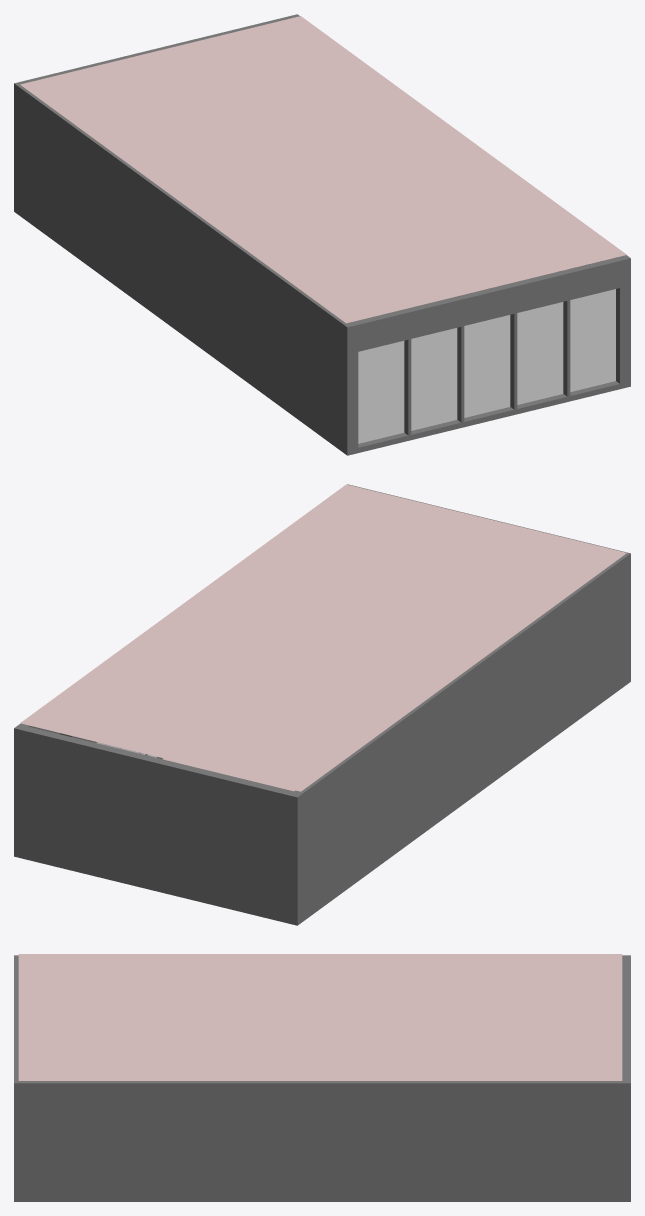
File: StudioRevamp.fbx
3 renders of one model, top to bottom at view 1: azimuth 30°, elevation 25°; view 2: azimuth 150°, elevation 25°; view 3: azimuth 270°, elevation 25°, orthographic. The views are drawn at different scales.
Parts seen in each view (by area): view 1: Ceiling, Walls, Windows, Walls3, Walls1; view 2: Ceiling, Walls, Walls1, Walls3; view 3: Ceiling, Walls2, Walls1, Walls3.
Boxes of the visible parts, box(x1,y1,x2,y2) form: Ceiling: box(20, 16, 626, 323); Walls: box(19, 86, 345, 451); Windows: box(358, 289, 615, 443); Walls3: box(343, 255, 630, 455); Walls1: box(14, 14, 299, 214); Ceiling: box(20, 484, 626, 791); Walls: box(294, 556, 626, 921); Walls1: box(14, 724, 302, 925); Walls3: box(347, 484, 630, 684); Ceiling: box(18, 954, 622, 1080); Walls2: box(22, 1081, 620, 1201); Walls1: box(621, 955, 630, 1201); Walls3: box(14, 955, 22, 1201).
Bounding box in the file's own units: 57.57 × 25.29 × 117.
